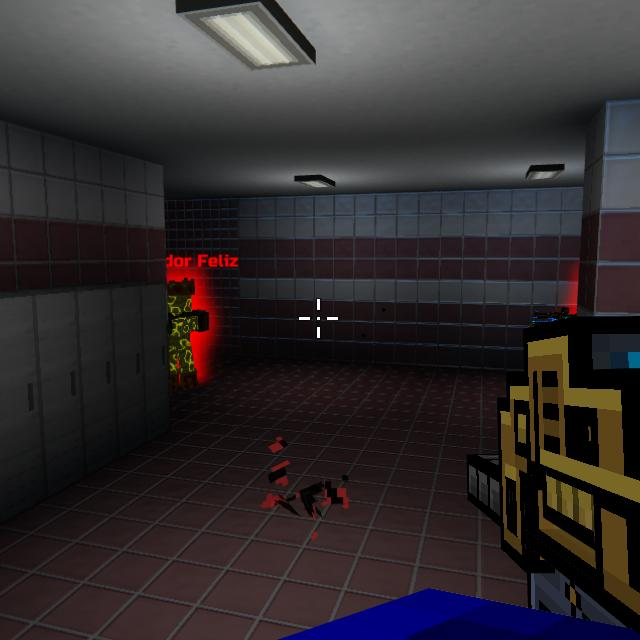Enemy: (168, 282, 210, 390)
